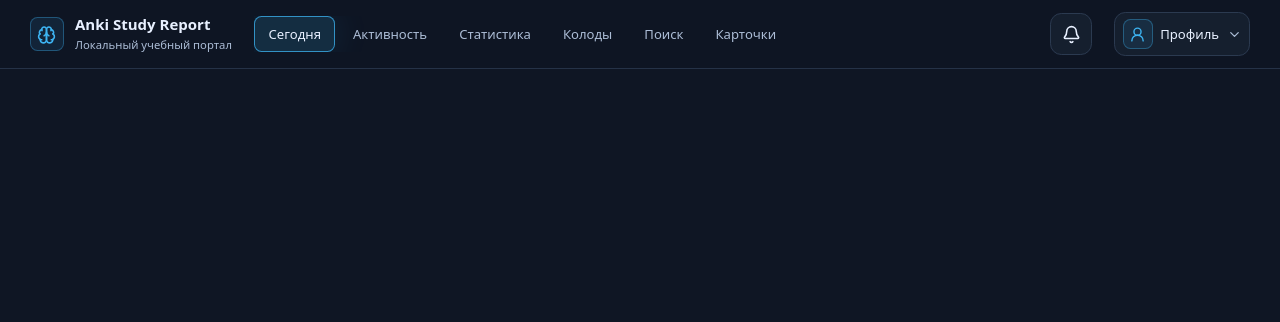
TopNav › exposes Boosty as a no-referrer external utility without changing the SPA hash
Click the button with aria-label "Открыть меню профиля" at point(1182, 34), box [1114,12,1250,56]
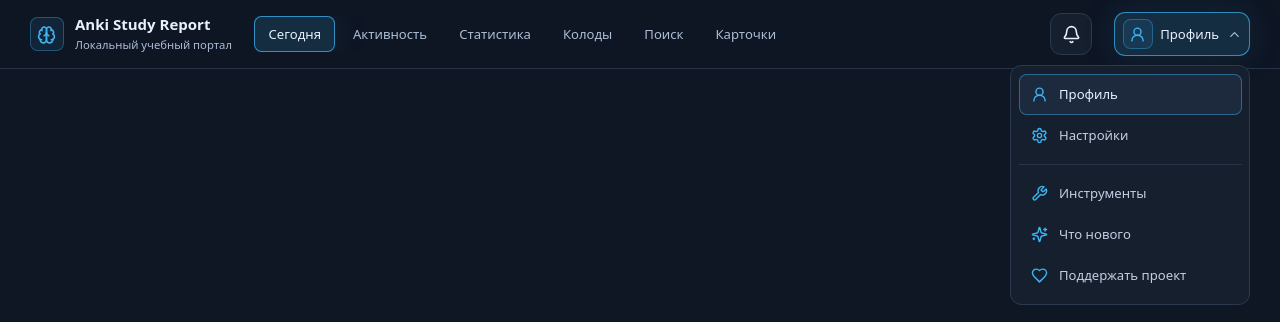
Click the menu item "Поддержать проект" at point(1109, 275), box [1031,266,1186,284]
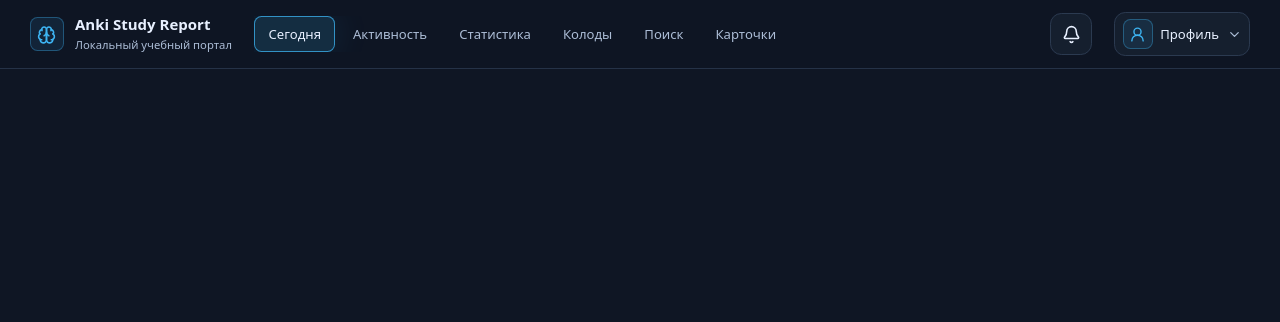
Result: the menu is gone
